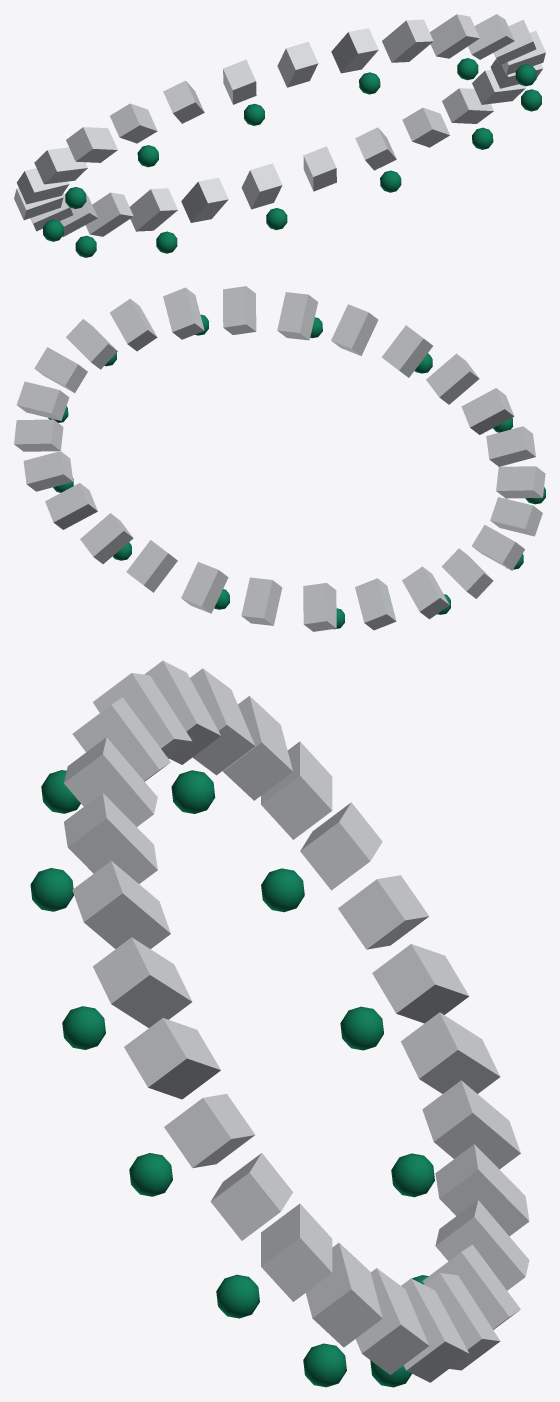
Rendered from imperial-diamond-bracelet.glb.
The picture shows the model from 3 angles, top to bottom: view 1: azimuth 30°, elevation 25°; view 2: azimuth 150°, elevation 25°; view 3: azimuth 270°, elevation 25°; orthographic projection. The views are drawn at different scales.
Parts seen in each view (by area): view 1: bracelet_link (×26), bracelet_gem (×13); view 2: bracelet_link (×26); view 3: bracelet_link (×26), bracelet_gem (×10).
Part boxes in pixels (bbox=[...]): bracelet_link (×26): bbox=[14, 14, 545, 236]; bracelet_gem (×13): bbox=[43, 58, 541, 257]; bracelet_link (×26): bbox=[14, 286, 545, 631]; bracelet_link (×26): bbox=[64, 660, 529, 1382]; bracelet_gem (×10): bbox=[30, 770, 434, 1387].
Size of the model in its own units: 2.32 by 1.13 by 0.9858.
